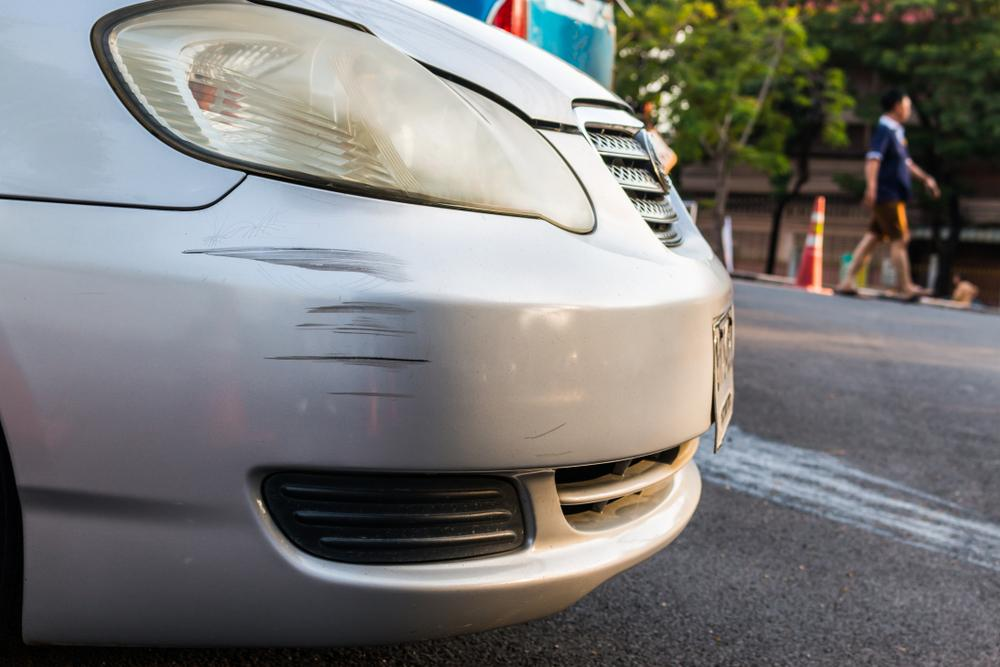scratch: (179, 240, 432, 415)
